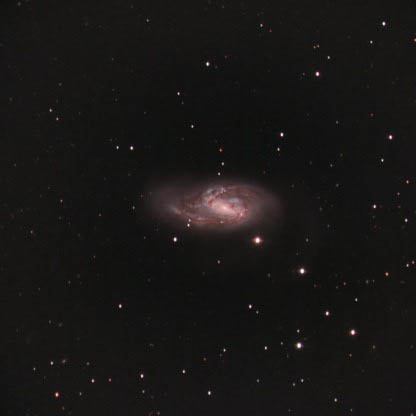Messier 66: (129, 173, 293, 258)
